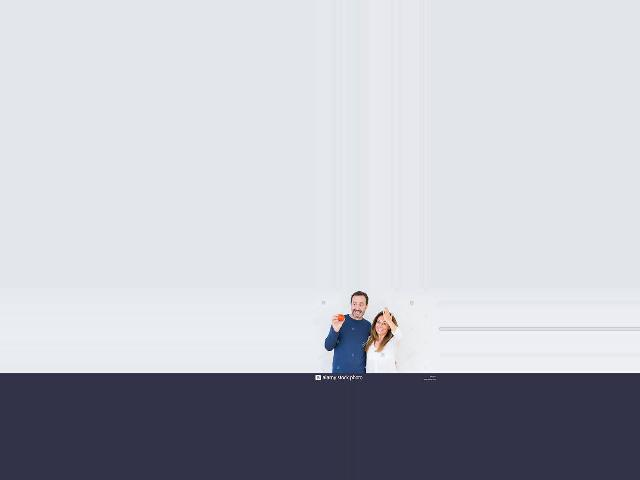tomato: (338, 313, 345, 320)
